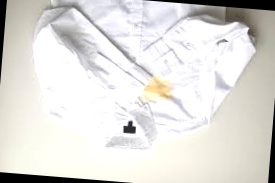coffee: (145, 81, 170, 102)
